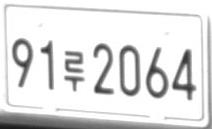0: (118, 44, 140, 97)
1: (37, 39, 61, 89)
2: (92, 42, 113, 94)
4: (172, 48, 197, 101)
6: (145, 47, 169, 99)
9: (11, 37, 34, 88)
루: (63, 50, 84, 91)
